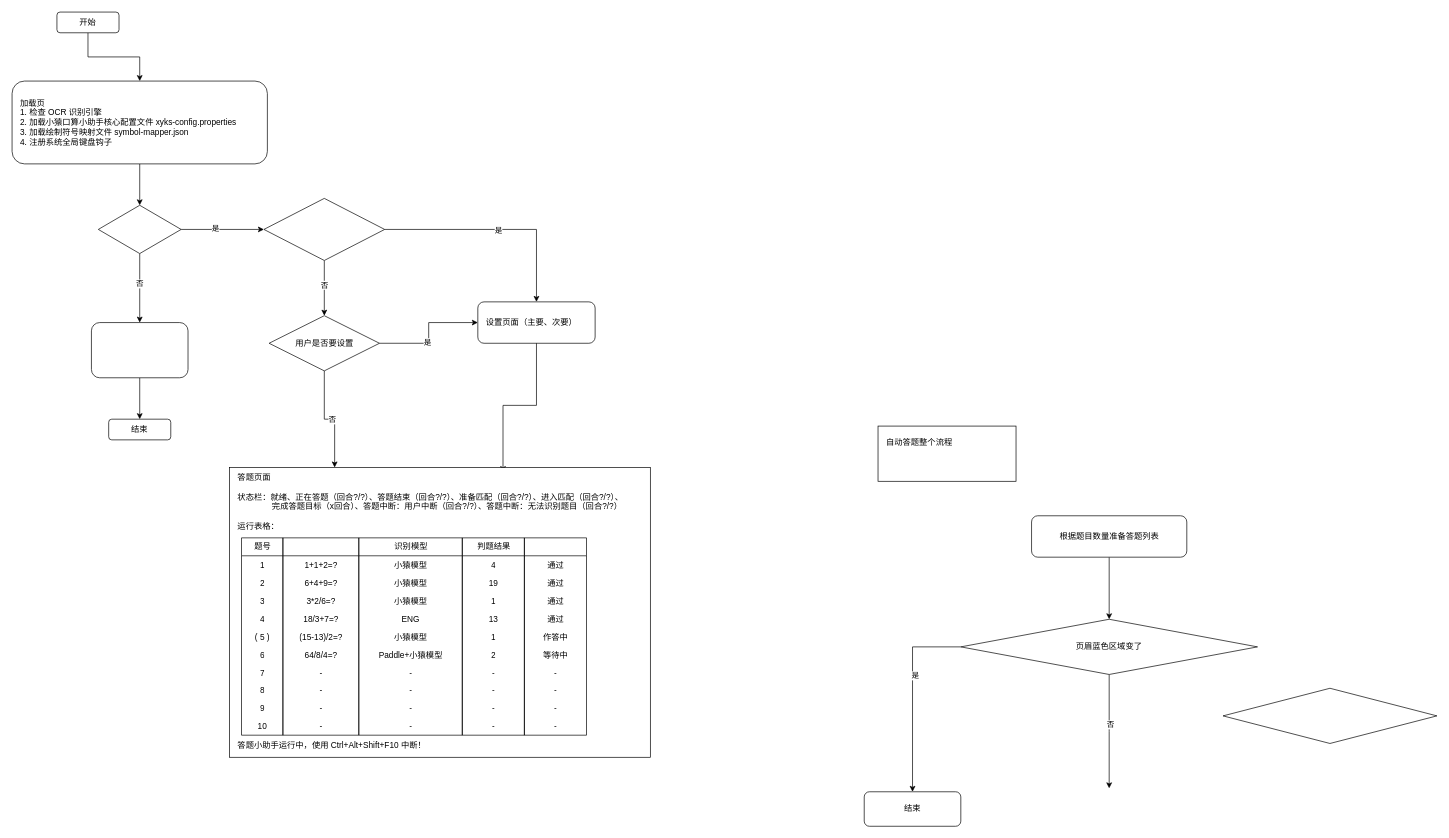
Some shapes in this 1449 by 838 pixel diagram are drawn without their labels. The box of each missing label's shape, as (x1, y1, x2, y2) in pixels:
加载通过: (98, 205, 181, 254)
如果循环次数大于最大重试: (1222, 688, 1437, 743)
状态: (524, 537, 586, 735)
识别题目: (282, 537, 359, 735)
配置文件是初始化吗: (263, 198, 385, 260)
错误展示页 为什么加载失败了: (91, 322, 188, 378)
